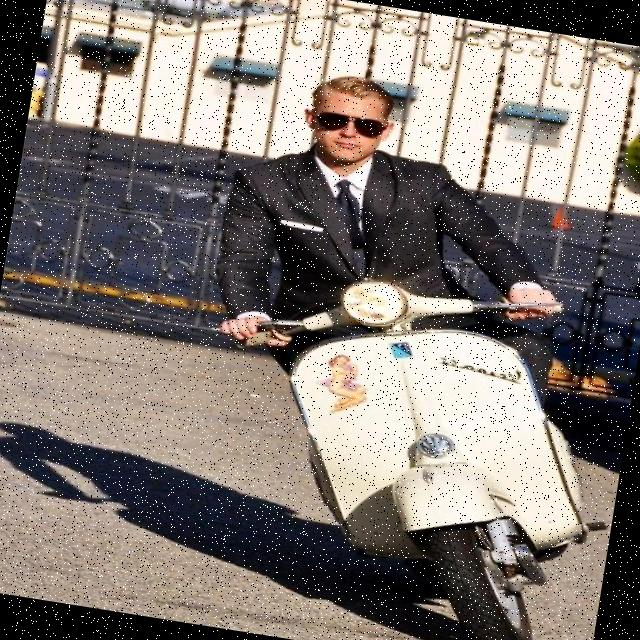No helmet: (289, 63, 410, 182)
